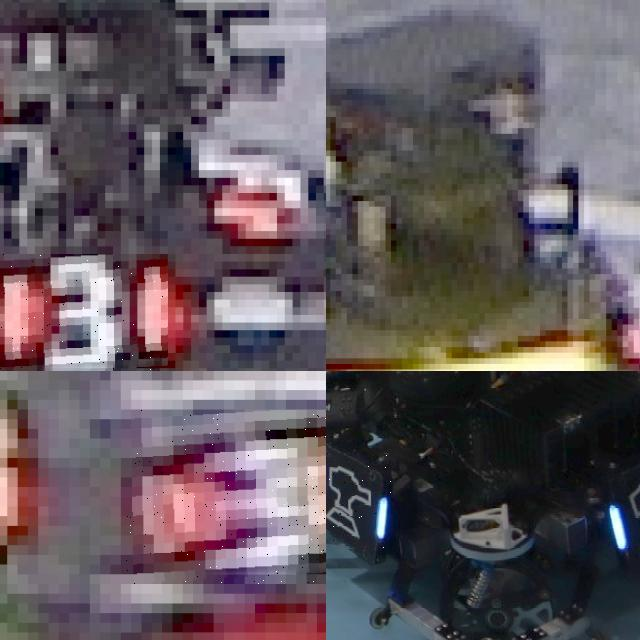Bs: (326, 453, 391, 551), (607, 461, 640, 558)
R3: (126, 409, 326, 584), (0, 254, 167, 371)
